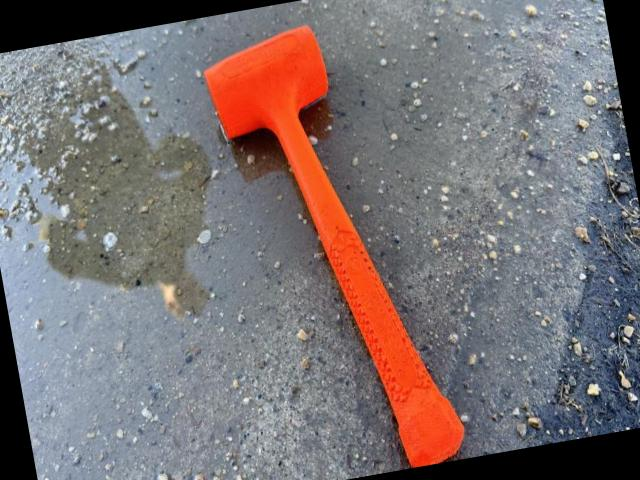hammer: (196, 7, 468, 480)
